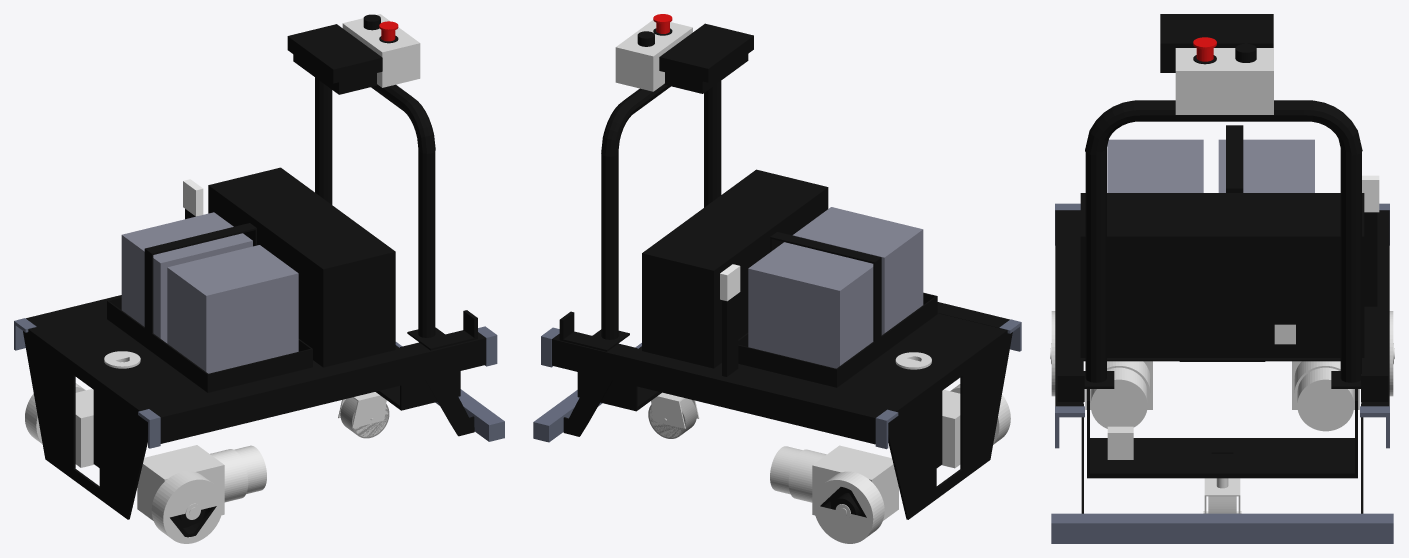
File: SM_Keycart_body.fbx
3 views of the same model, side by side, from view 1: azimuth 30°, elevation 25°; view 2: azimuth 150°, elevation 25°; view 3: azimuth 270°, elevation 25° (orthographic). The views are drawn at different scales.
Parts seen in each view (by area): view 1: Body, Wheel_RR, Joint, Wheel_FC; view 2: Body, Wheel_RL, Joint, Wheel_FC; view 3: Body, Joint, Wheel_FC, Wheel_RL, Wheel_RR.
Boxes of the visible parts, x1,y1,x2,y2 form: Body: (14, 14, 504, 520); Wheel_RR: (151, 471, 223, 543); Joint: (338, 392, 386, 428); Wheel_FC: (340, 397, 389, 438); Body: (533, 14, 1021, 520); Wheel_RL: (813, 471, 884, 543); Joint: (651, 392, 699, 428); Wheel_FC: (648, 398, 696, 438); Body: (1051, 14, 1393, 543); Joint: (1203, 478, 1241, 513); Wheel_FC: (1208, 496, 1236, 513); Wheel_RL: (1389, 311, 1394, 396); Wheel_RR: (1050, 311, 1055, 396).
Size of the model in its own units: 48.35 by 70.78 by 78.26.
